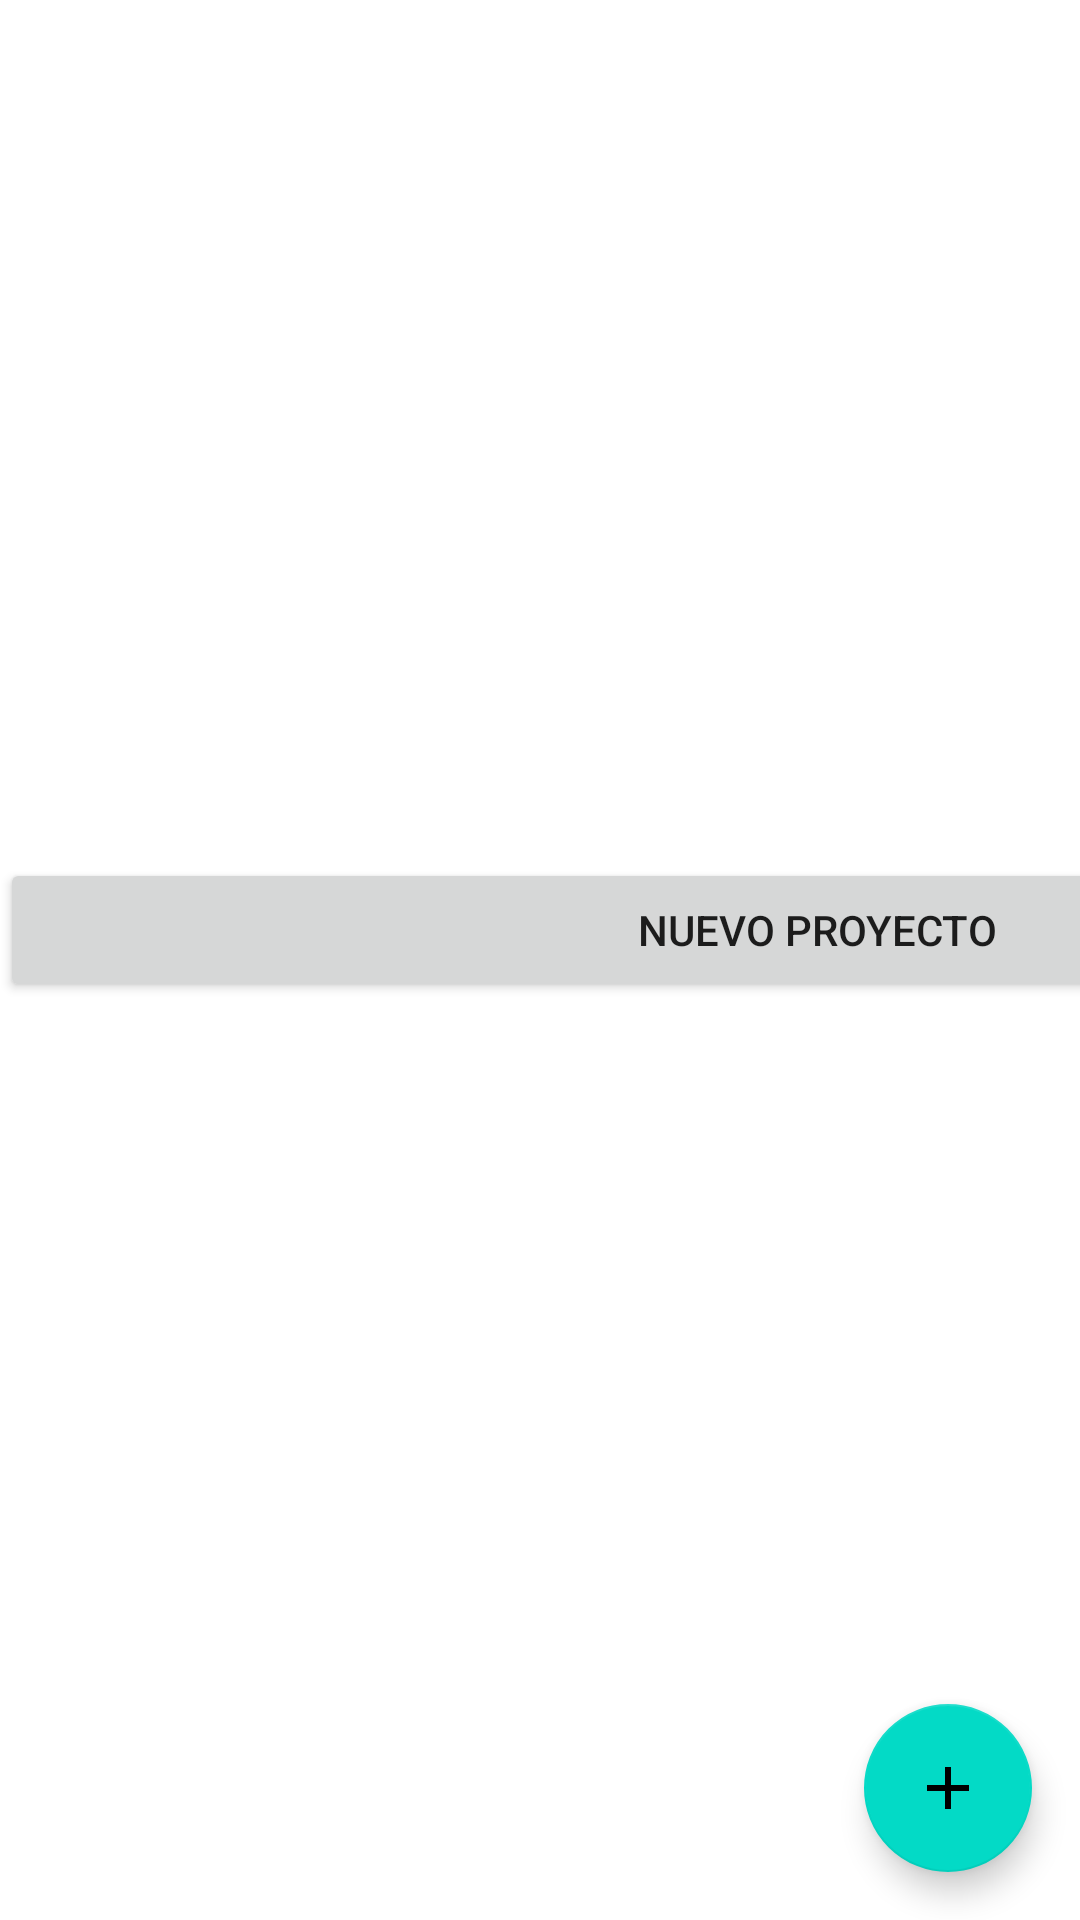

Named icons in this screenshot (1080x1920) and their centers, point (x, y):
hf_use_description|Agregar Estacion: point (948, 1788)
